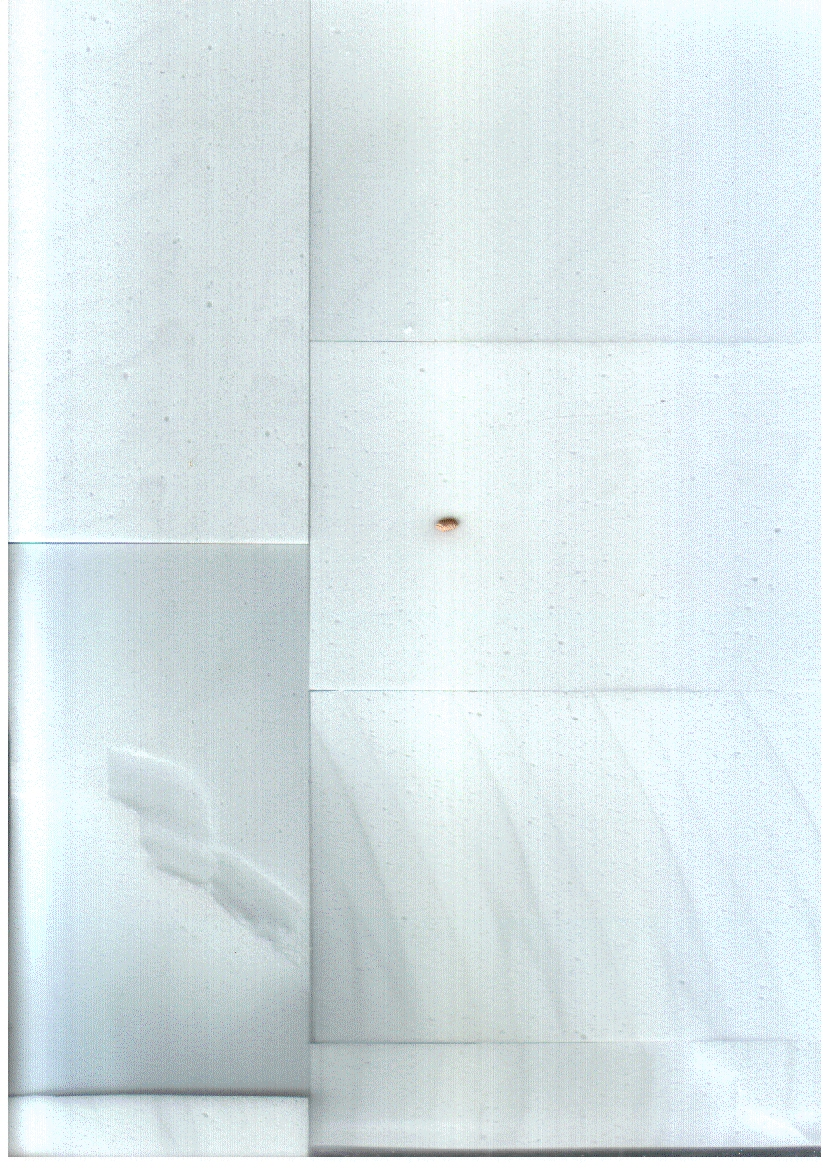grains: (425, 495, 467, 551)
